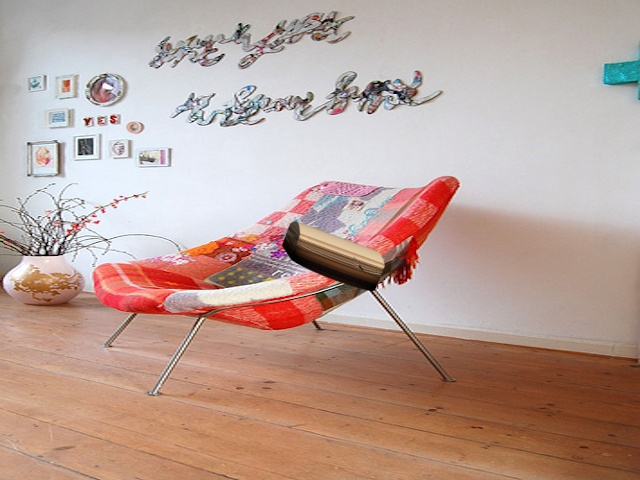mouse: (273, 209, 396, 304)
